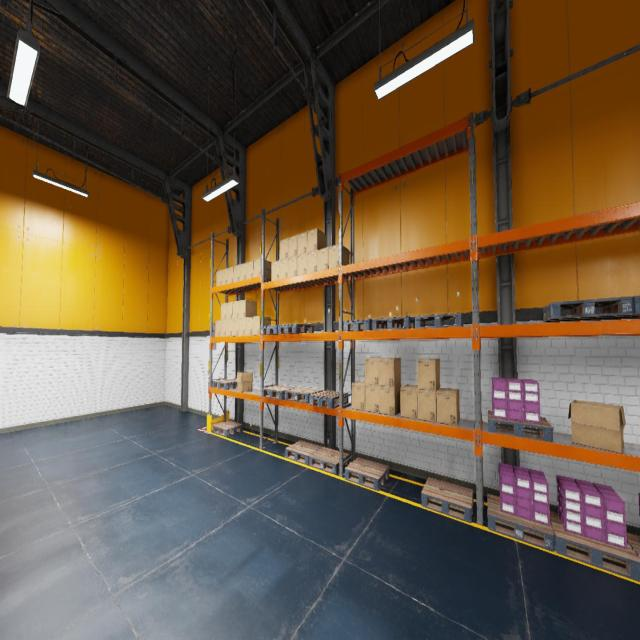box: (568, 400, 625, 453), (436, 388, 459, 426), (417, 358, 440, 391), (418, 388, 440, 422), (379, 384, 401, 416), (379, 358, 401, 387), (400, 385, 418, 419), (365, 358, 386, 386), (328, 244, 348, 269), (307, 228, 327, 253), (365, 385, 379, 413), (352, 381, 365, 411), (252, 316, 271, 335), (236, 372, 253, 392), (254, 258, 271, 278), (239, 300, 256, 318), (317, 246, 328, 271), (307, 250, 317, 273), (297, 232, 307, 255), (297, 253, 307, 275), (288, 235, 297, 258), (288, 256, 297, 277), (279, 258, 288, 279), (280, 238, 288, 260), (272, 260, 280, 281), (246, 260, 254, 279), (245, 316, 252, 336), (232, 318, 239, 336), (233, 264, 240, 282), (239, 318, 245, 336), (232, 300, 238, 318), (240, 262, 246, 280), (226, 319, 232, 336), (228, 266, 234, 283), (226, 302, 232, 318), (216, 270, 222, 286), (215, 320, 220, 337), (221, 320, 226, 336), (221, 303, 226, 319), (222, 268, 227, 284)
pallets: (550, 511, 640, 581), (487, 494, 555, 552), (542, 296, 634, 322), (422, 477, 474, 523), (488, 411, 553, 442), (345, 458, 389, 490), (309, 446, 349, 474), (285, 440, 322, 465), (415, 313, 463, 328), (309, 391, 348, 408), (615, 296, 640, 319), (372, 317, 415, 330), (285, 388, 322, 403), (262, 386, 297, 400), (212, 421, 242, 436), (626, 532, 640, 558), (278, 324, 314, 334), (343, 319, 372, 331), (260, 325, 292, 334), (212, 380, 237, 390)
